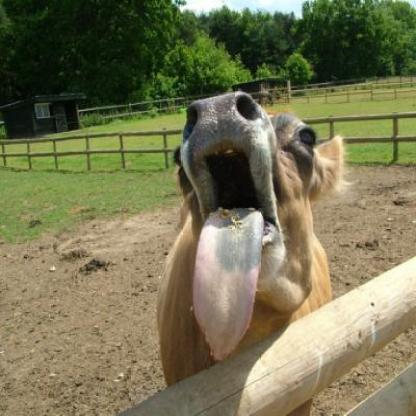mouth: (181, 93, 279, 362)
upper: (189, 100, 241, 135)
